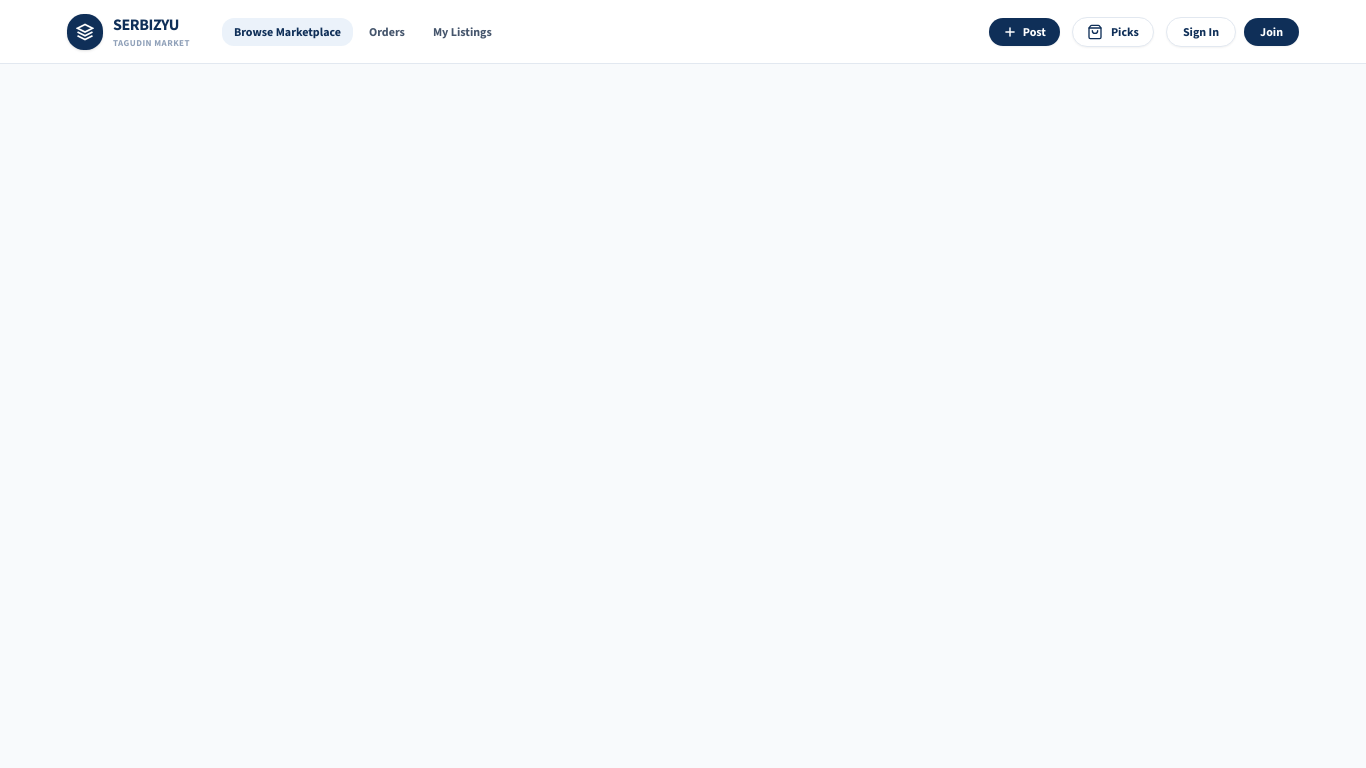
it: DesktopGlobalNav dynamic auth state › renders unified Post CTA and opens streamlined CreatorPostModal when clicked
expect the text "What are you posting?" is not shown: met
Step 1. Click the button with aria-label "Post request or create listing" → (1024, 32), box [989, 18, 1060, 46]
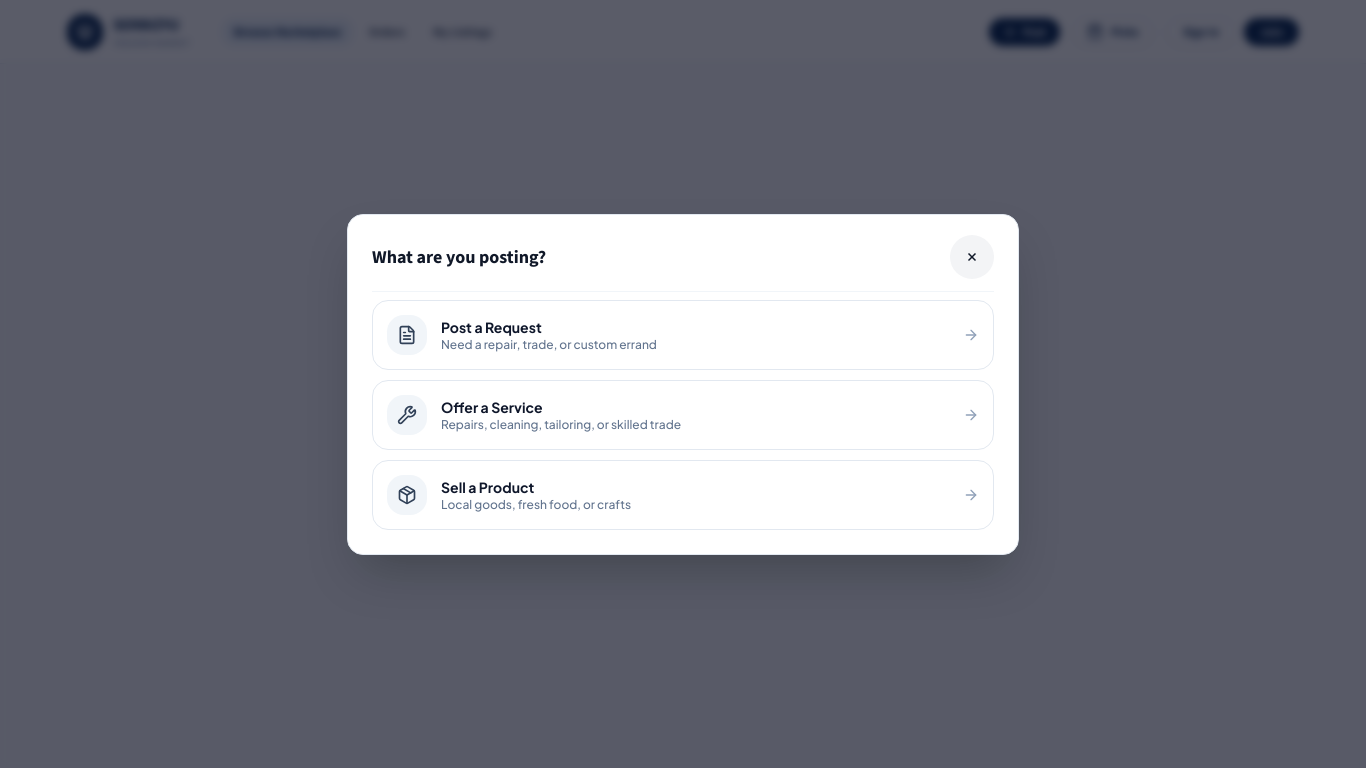
expect the heading "What are you posting?" is shown: met, box [372, 244, 546, 268]
expect the heading "Post a Request" is shown: met, box [441, 318, 542, 336]
expect the heading "Offer a Service" is shown: met, box [441, 398, 543, 416]
